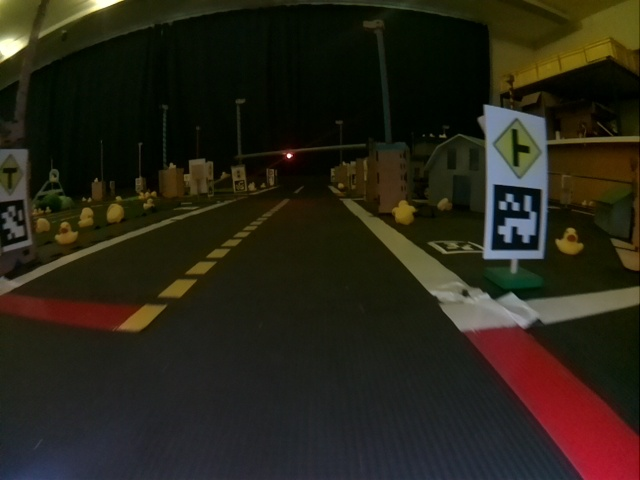Duckie: (556, 229, 582, 254), (393, 201, 415, 224), (56, 224, 78, 243), (105, 205, 123, 221), (437, 197, 453, 211)
Intersection sign: (487, 110, 547, 180), (1, 154, 22, 196)
QR code: (491, 185, 544, 252), (1, 200, 28, 248), (432, 239, 483, 255), (236, 182, 246, 192)
